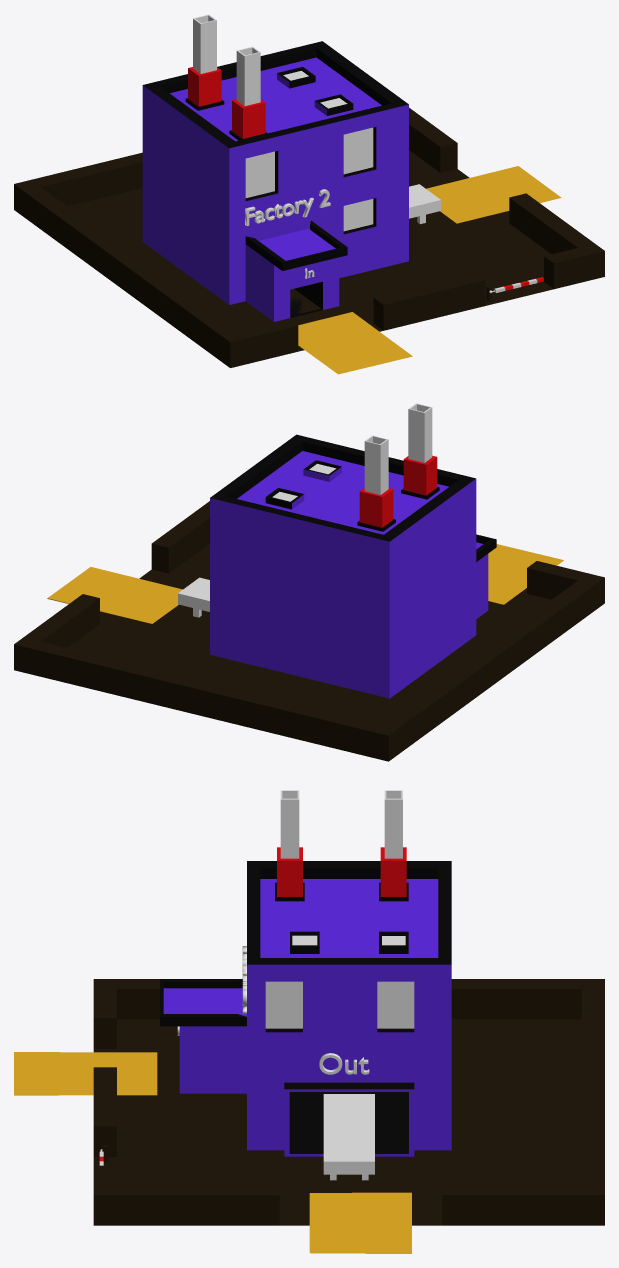
Rendered from Factory2.fbx.
The picture shows the model from 3 angles, top to bottom: view 1: azimuth 30°, elevation 25°; view 2: azimuth 150°, elevation 25°; view 3: azimuth 270°, elevation 25°; orthographic projection. The views are drawn at different scales.
Visible parts, largest first — view 1: Building.003, Fence.003, Factory.009; view 2: Building.003, Fence.003; view 3: Fence.003, Building.003.
Part boxes in pixels (x1,y1,x2,y2): Building.003: (142, 14, 440, 321); Fence.003: (14, 107, 604, 374); Factory.009: (245, 189, 330, 225); Building.003: (178, 403, 496, 698); Fence.003: (14, 501, 604, 761); Fence.003: (14, 979, 604, 1253); Building.003: (160, 790, 451, 1180).
Size of the model in its own units: 564 by 298 by 578.
